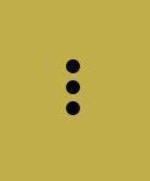ImgButton: (1, 1, 149, 180)
